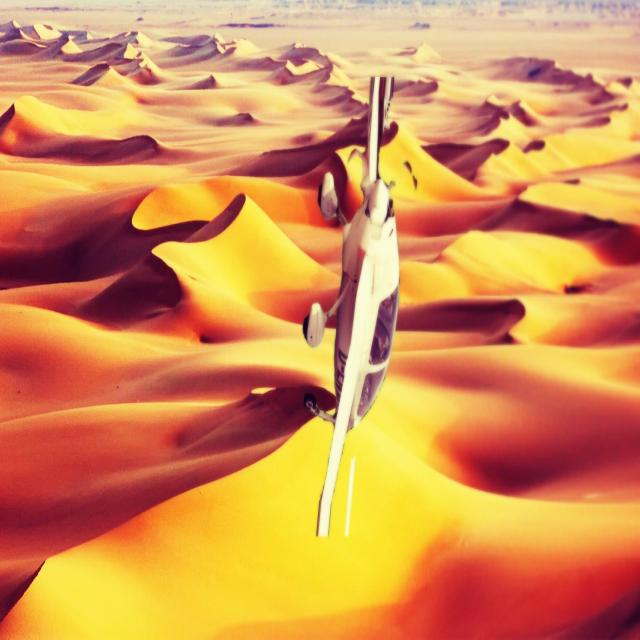airplane: (302, 74, 401, 538)
